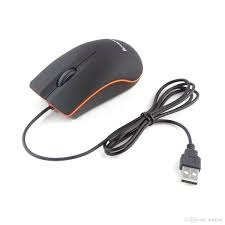mouse: (30, 31, 146, 123)
